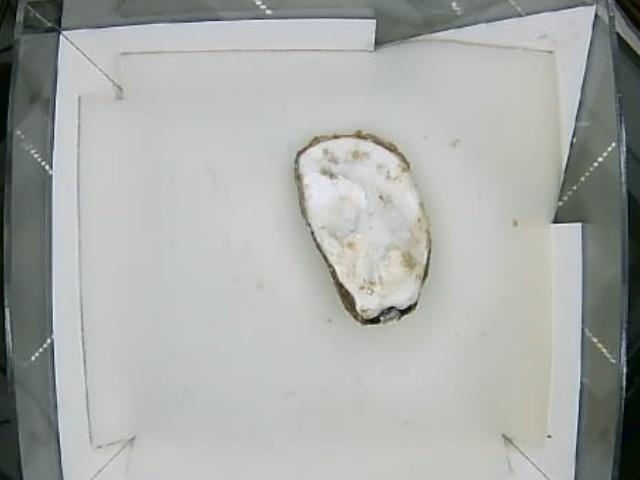Shell: (292, 130, 431, 329)
